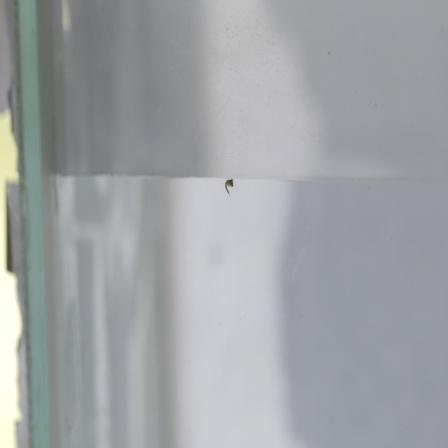Jentik-Nyamuk: (220, 173, 238, 197)
